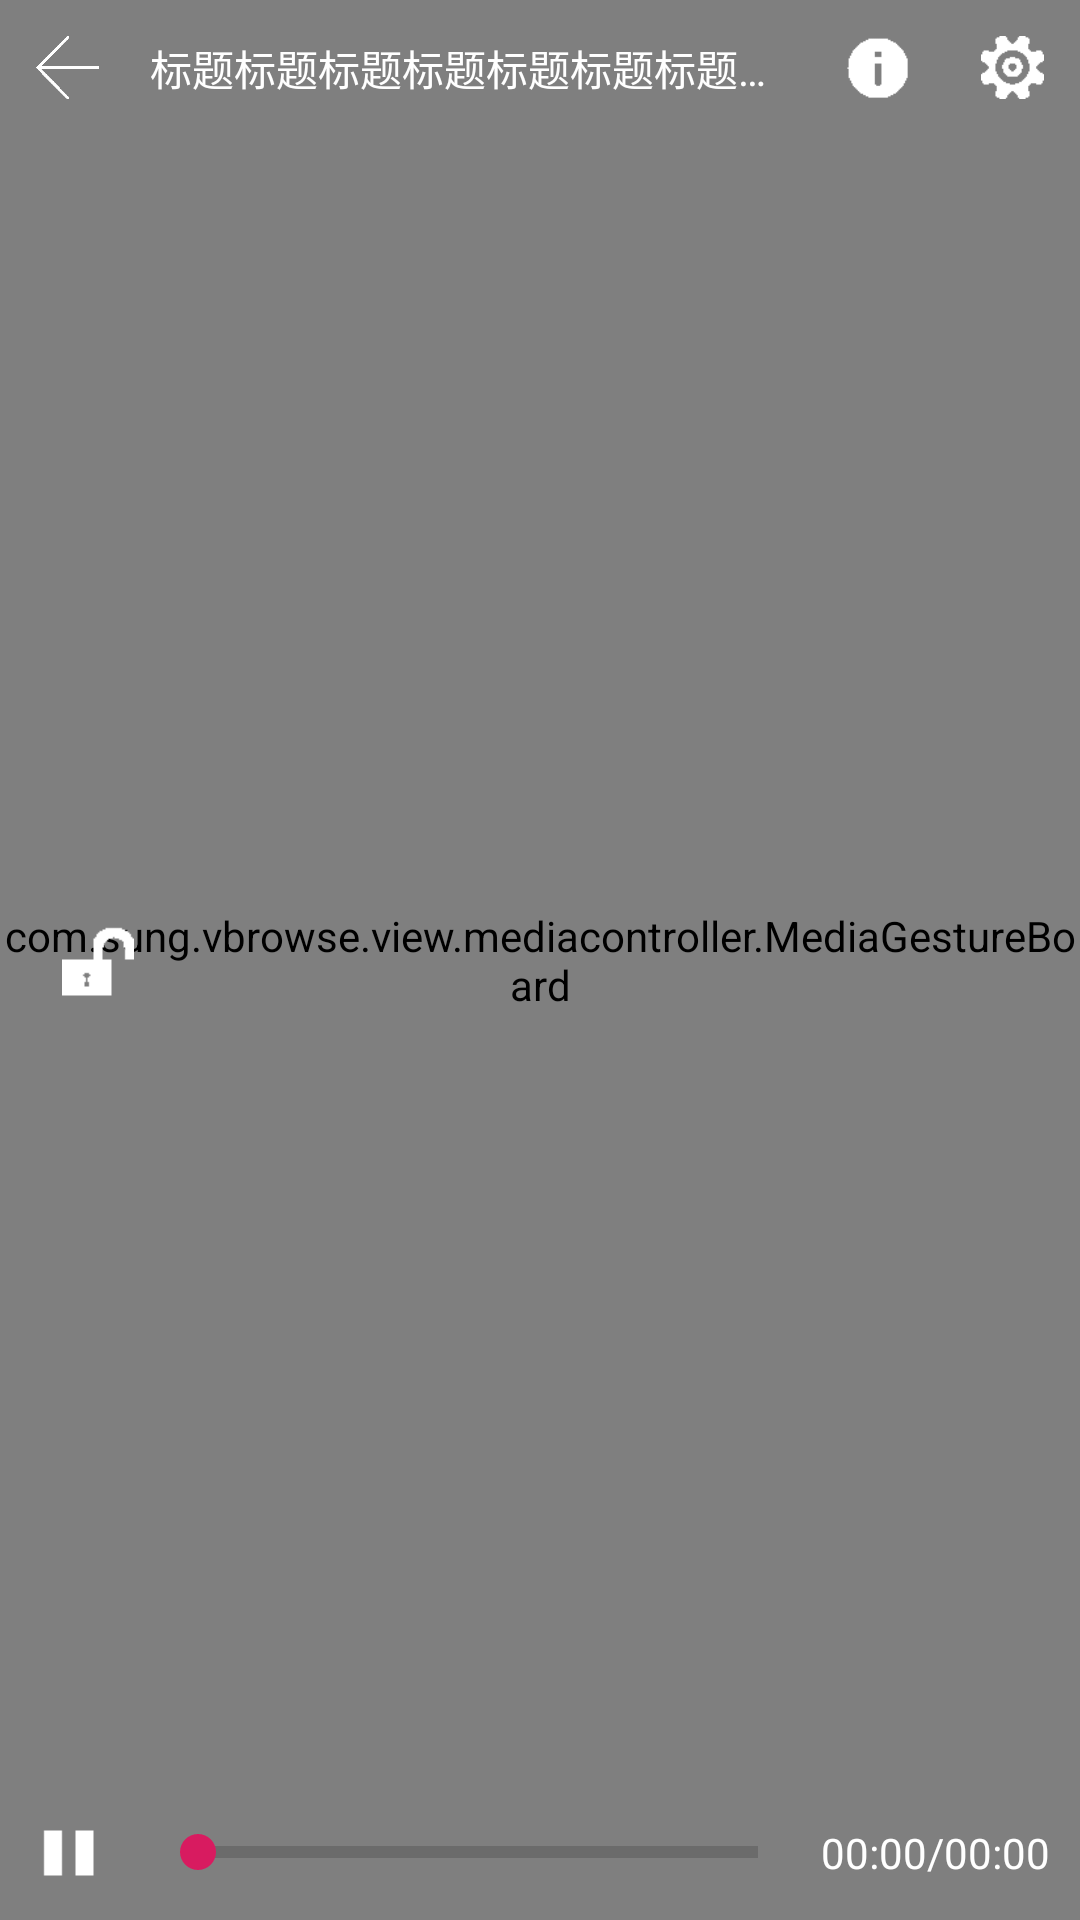

Point at icon controls on the screen. Image size 1080×1920, points as [x,y].
back up: [67,67]
info: [877,68]
setting: [1012,67]
